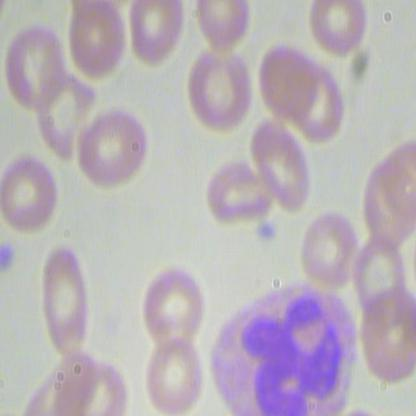Platelets: (249, 220, 276, 246), (1, 244, 14, 274)
RBC: (185, 41, 255, 138), (77, 104, 151, 190), (200, 154, 274, 237), (252, 118, 312, 219), (138, 263, 205, 350), (6, 24, 68, 117), (42, 242, 90, 360), (295, 209, 362, 290), (254, 38, 318, 120), (67, 1, 131, 82), (1, 154, 60, 240), (140, 339, 203, 415), (352, 235, 407, 315), (306, 1, 373, 59), (129, 1, 185, 70)
WBC: (202, 276, 370, 415)
